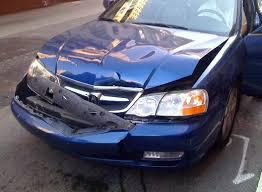bonnet-dent: (61, 13, 201, 86)
front-bumper-dent: (23, 83, 124, 148)
